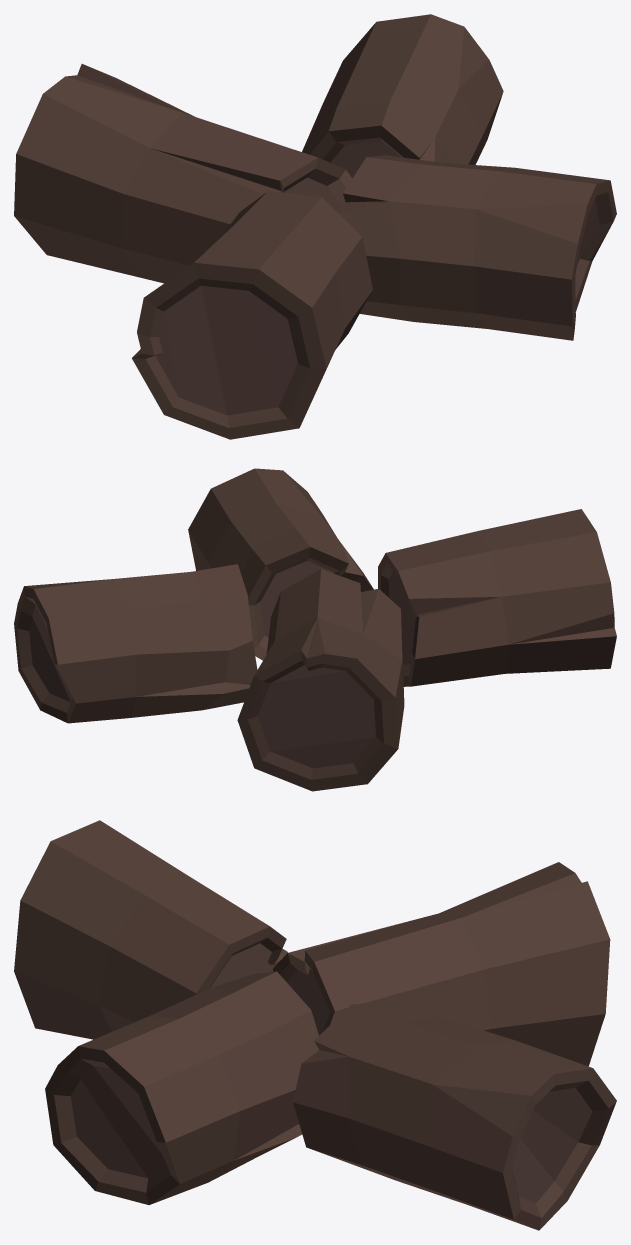
The model's file is bonfire.glb.
3 views of the same model, one above another, from view 1: azimuth 30°, elevation 25°; view 2: azimuth 150°, elevation 25°; view 3: azimuth 270°, elevation 25° (orthographic). The views are drawn at different scales.
Visible parts, largest first — view 1: bonfire; view 2: bonfire; view 3: bonfire.
Part boxes in pixels (x1,y1,x2,y2): bonfire: (14,14,616,439); bonfire: (14,468,616,791); bonfire: (14,820,616,1230).
Bounding box in the file's own units: 1 × 0.3106 × 0.912.
